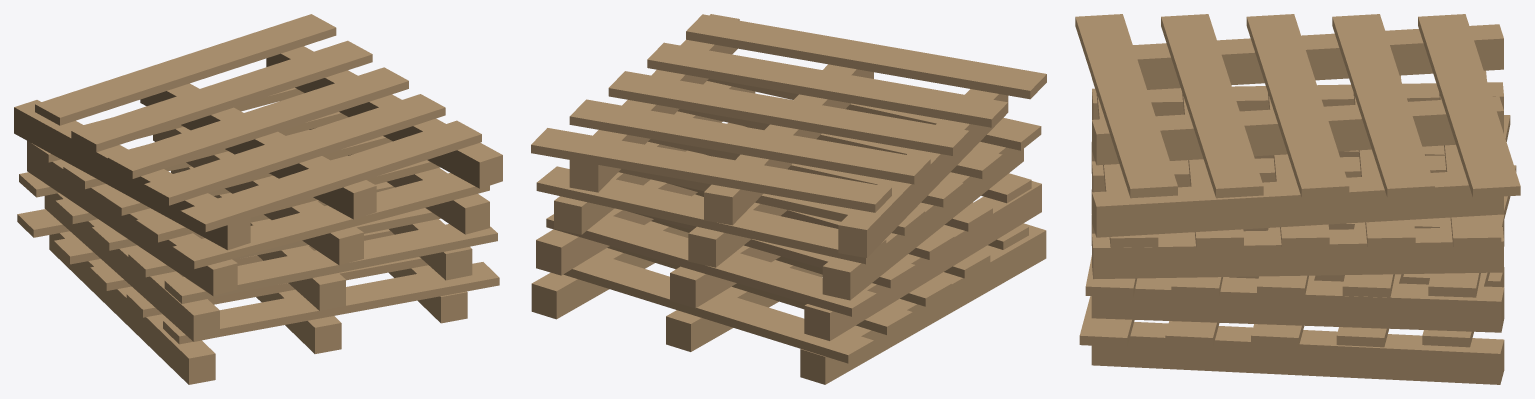
File: env_pallet_stack.glb
The picture shows the model from 3 angles, left to right: view 1: azimuth 30°, elevation 25°; view 2: azimuth 150°, elevation 25°; view 3: azimuth 270°, elevation 25°; orthographic projection. The views are drawn at different scales.
Parts seen in each view (by area): view 1: env_pallet_stack; view 2: env_pallet_stack; view 3: env_pallet_stack.
Part boxes in pixels (left/top/right/bottom): env_pallet_stack: left=14, top=14, right=502, bottom=384; env_pallet_stack: left=531, top=14, right=1046, bottom=384; env_pallet_stack: left=1075, top=14, right=1520, bottom=384.
Bounding box in the file's own units: 1.26 × 0.625 × 1.3.
